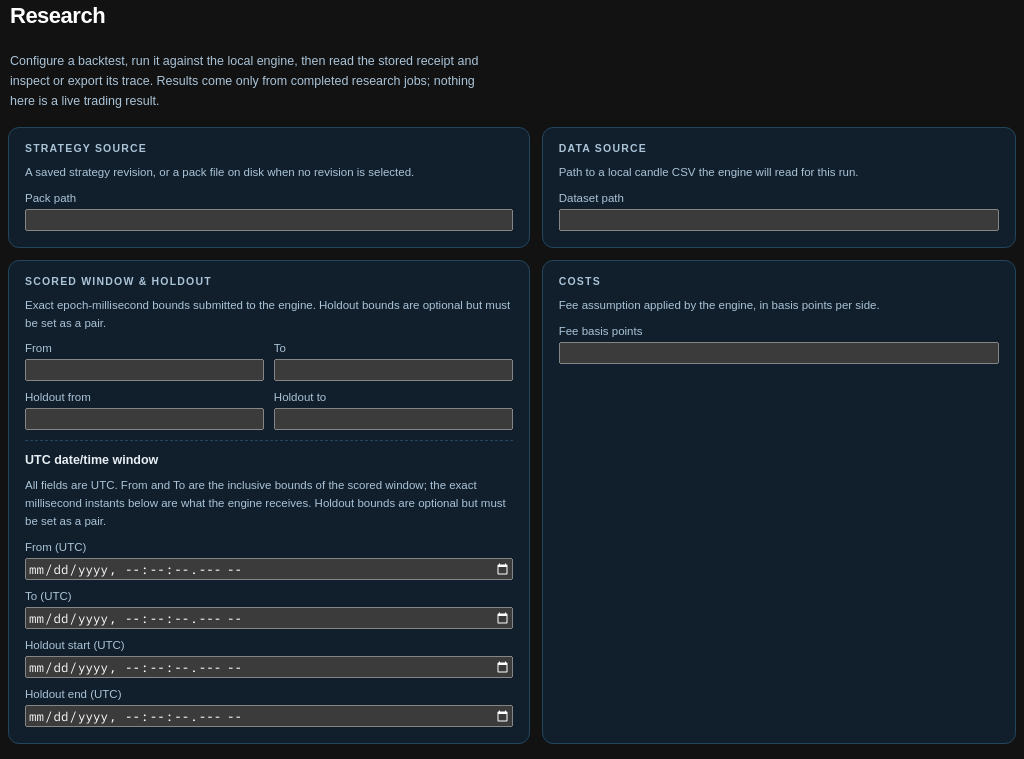
ResearchView holdout bounds (issue149: finite safe integer before submit) › unsafe positive Holdout from is refused and never submitted rounded
Type "fixtures/synthetic.csv" into the field labelled "Dataset path" at [779, 220], box [559,209,999,231]
Type "40" into the field labelled "Fee basis points" at [779, 353], box [559,342,999,364]
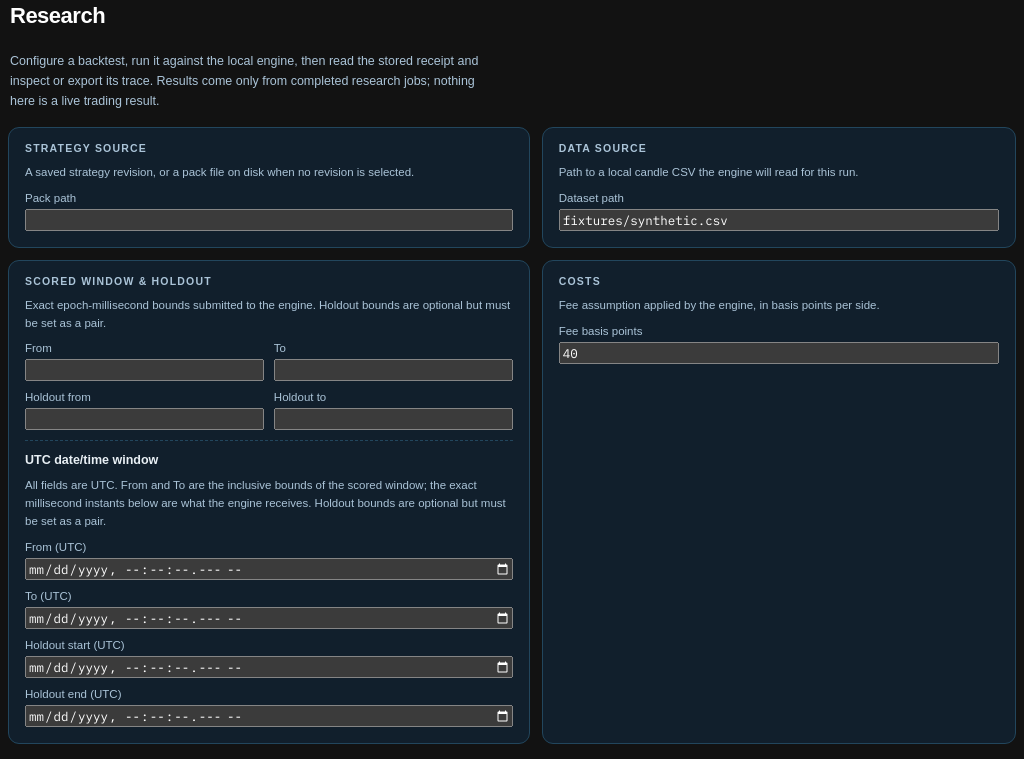
Type "0" into the field labelled "From" at [144, 370], box [25,359,264,381]
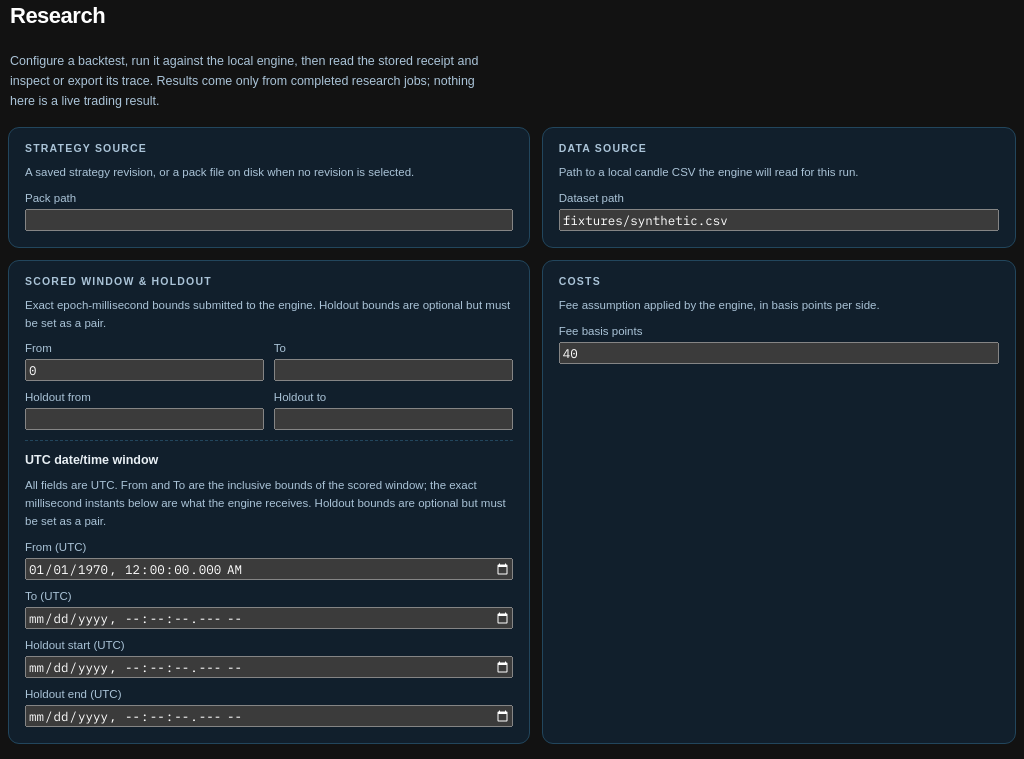
Type "1000" into the field labelled "To" at [393, 370], box [274,359,513,381]
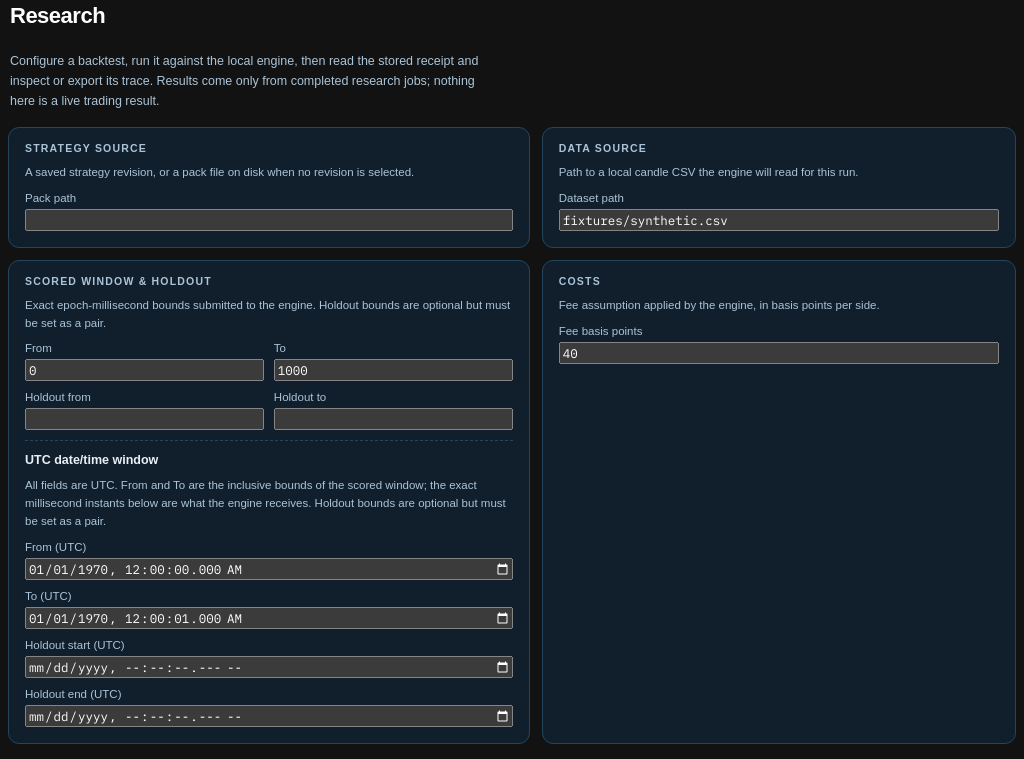
Type "9007199254740993" into the field labelled "Holdout from" at [144, 419], box [25,408,264,430]
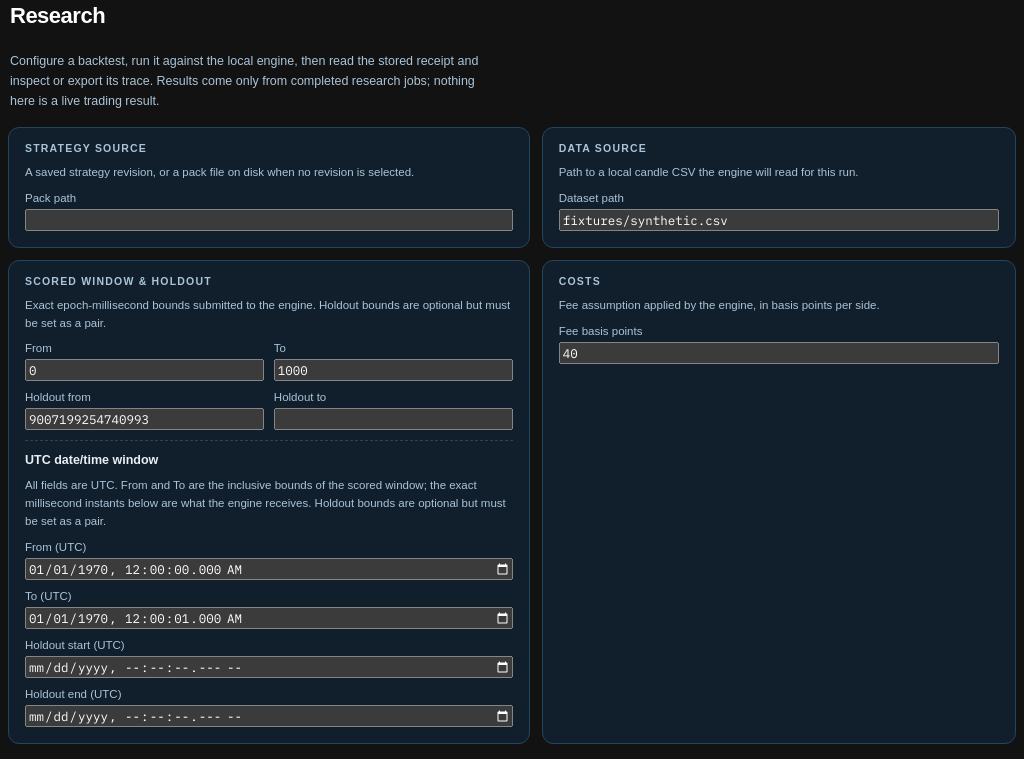
Type "900" into the field labelled "Holdout to" at [393, 419], box [274,408,513,430]
(page scrolled)
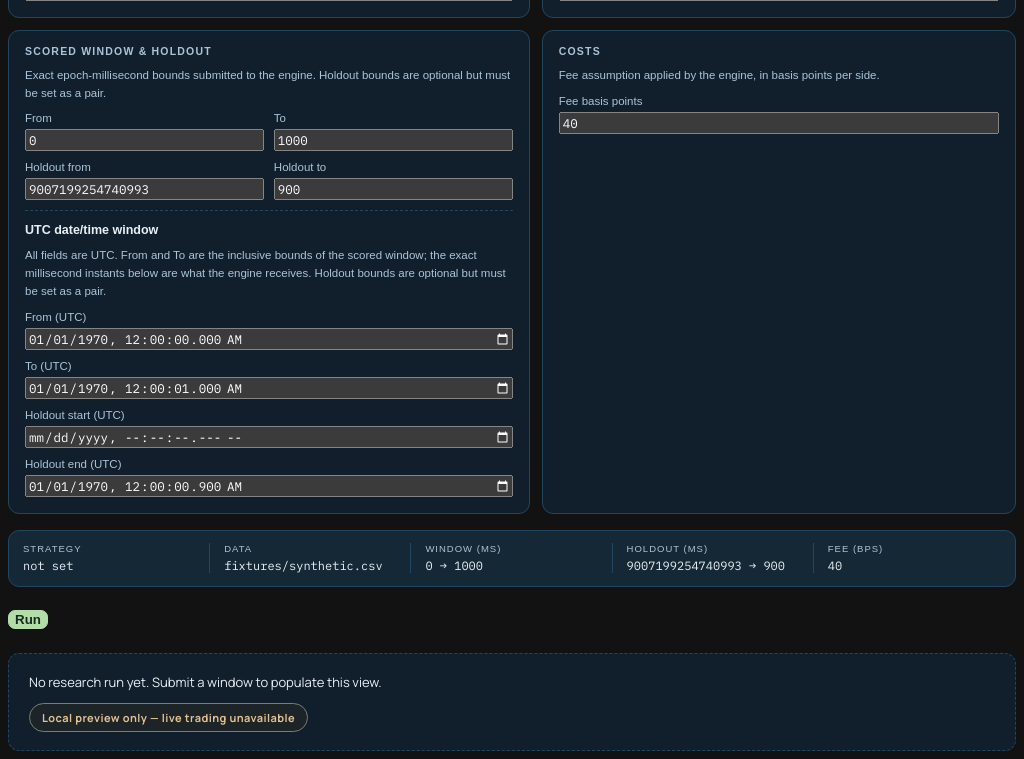
Click the button "Run" at [28, 620], box [8,610,48,629]
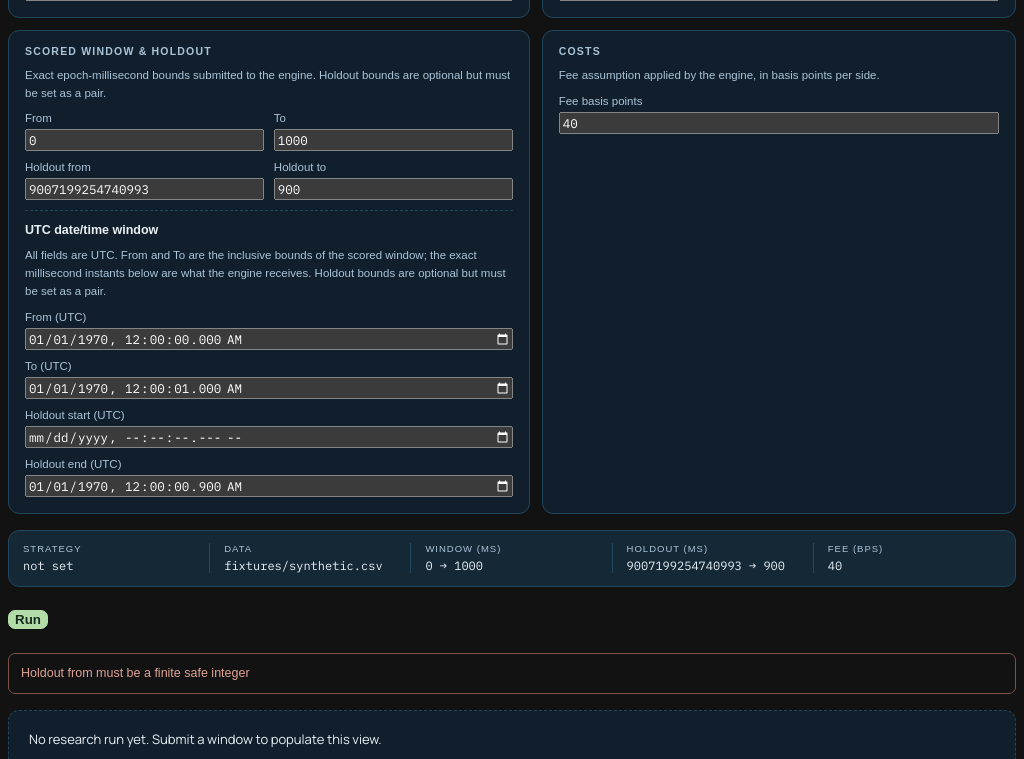
Expected: the message reads "Holdout from must be a finite safe integer", [21,666,250,680]
